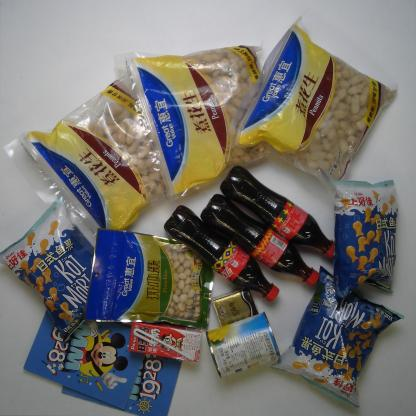Canned Food: (204, 312, 281, 378)
Dried Food: (3, 66, 188, 251), (226, 14, 401, 192), (114, 38, 278, 203)
Dried Fruit: (86, 227, 214, 329)
Drink: (218, 163, 339, 259), (162, 204, 280, 302), (201, 194, 322, 288)
Milk: (127, 318, 201, 363)
Puffed Food: (268, 266, 405, 409), (2, 198, 123, 345), (332, 174, 400, 297)
Stationery: (21, 295, 150, 410), (59, 320, 185, 413)
Tissue: (213, 286, 259, 326)
